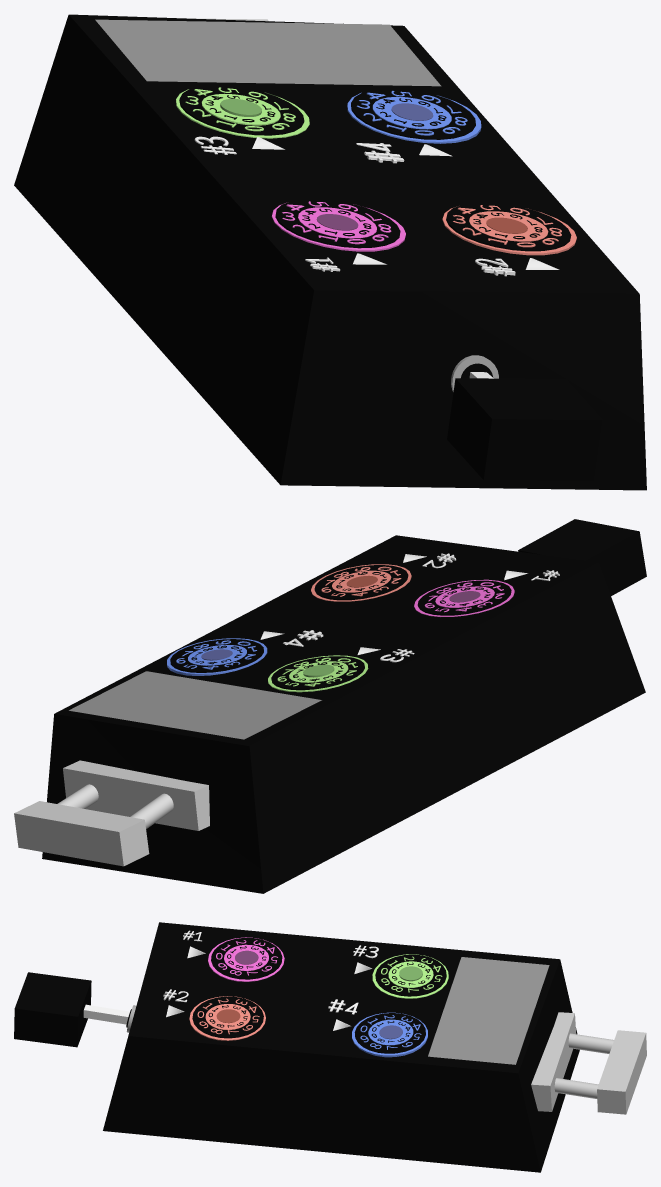
File: dial puzzle lock.fbx
3 views of the same model, one above another, from view 1: azimuth 30°, elevation 25°; view 2: azimuth 150°, elevation 25°; view 3: azimuth 270°, elevation 25° (orthographic). The views are drawn at different scales.
Visible parts, largest first — view 1: bc7c3a88-1f73-4cdd-82ba-31a61b1e59d7; view 2: bc7c3a88-1f73-4cdd-82ba-31a61b1e59d7; view 3: bc7c3a88-1f73-4cdd-82ba-31a61b1e59d7.
Part boxes in pixels (x1,y1,x2,y2): bc7c3a88-1f73-4cdd-82ba-31a61b1e59d7: (14,14,646,490); bc7c3a88-1f73-4cdd-82ba-31a61b1e59d7: (14,519,646,893); bc7c3a88-1f73-4cdd-82ba-31a61b1e59d7: (14,922,646,1172).
Bounding box in the file's own units: 28351 × 14634 × 60350.
